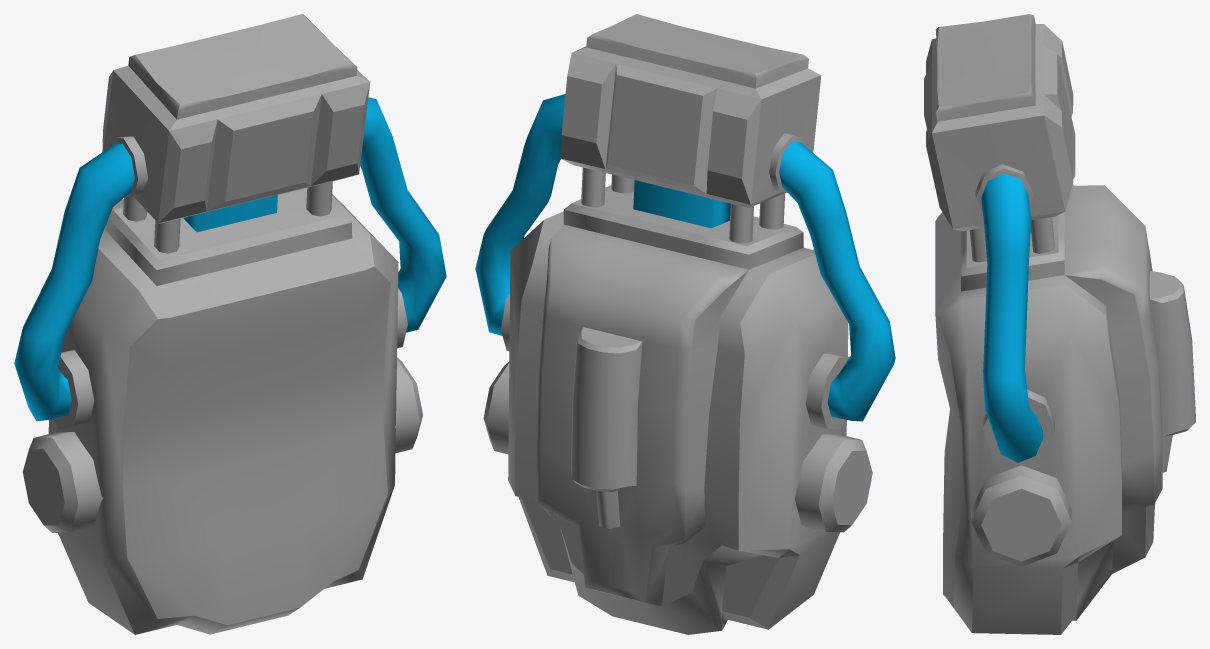
Rendered from Backpack.fbx.
The picture shows the model from 3 angles, left to right: view 1: azimuth 30°, elevation 25°; view 2: azimuth 150°, elevation 25°; view 3: azimuth 270°, elevation 25°; orthographic projection. The views are drawn at different scales.
Visible parts, largest first — view 1: BackPack; view 2: BackPack; view 3: BackPack.
Part boxes in pixels (box(x1,y1,x2,y2)): BackPack: box(14, 14, 446, 634); BackPack: box(475, 14, 895, 634); BackPack: box(924, 14, 1195, 634).
Size of the model in its own units: 90.85 by 116 by 52.25.
